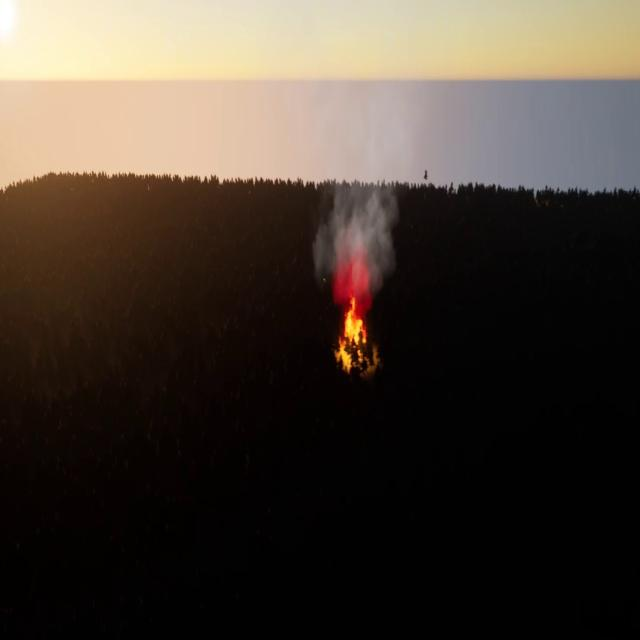fire: (332, 299, 372, 363)
smoke: (310, 180, 397, 300)
